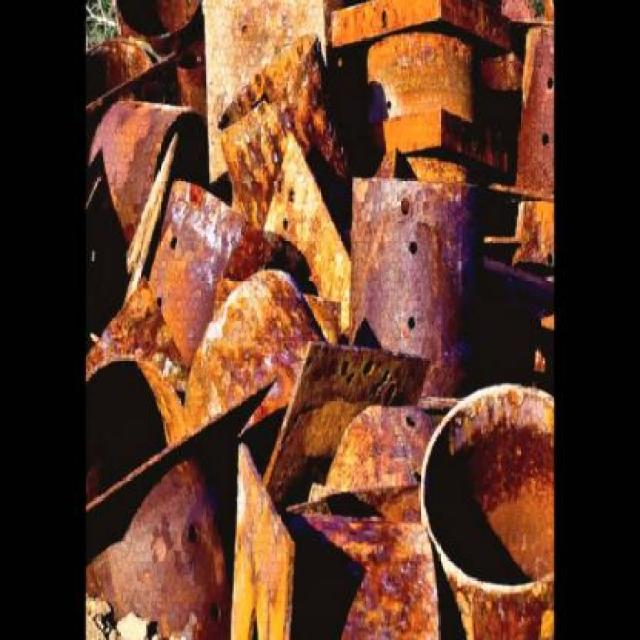corrosion: (86, 6, 552, 640)
